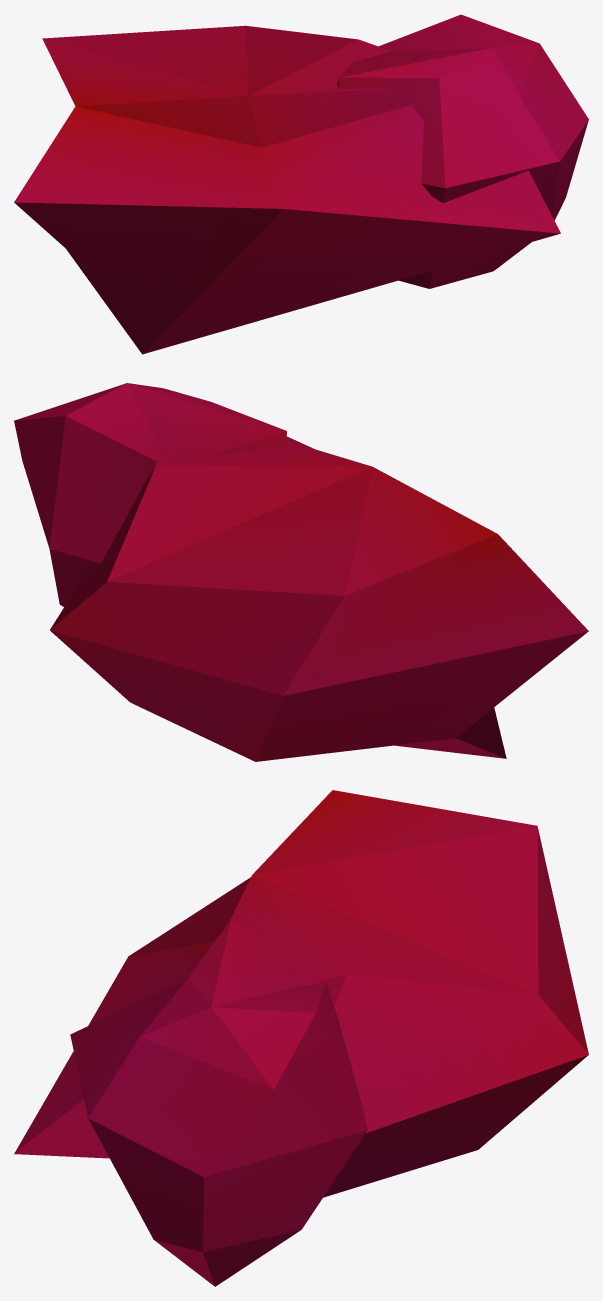
The model's file is Rock_Desert_Large_01.glb.
3 renders of one model, top to bottom at view 1: azimuth 30°, elevation 25°; view 2: azimuth 150°, elevation 25°; view 3: azimuth 270°, elevation 25°, orthographic. The views are drawn at different scales.
Parts seen in each view (by area): view 1: Rock_Desert_Large_01; view 2: Rock_Desert_Large_01; view 3: Rock_Desert_Large_01.
Boxes of the visible parts, bbox=[...] form: Rock_Desert_Large_01: bbox=[14, 14, 588, 354]; Rock_Desert_Large_01: bbox=[14, 383, 588, 761]; Rock_Desert_Large_01: bbox=[14, 790, 588, 1286].
Size of the model in its own units: 4.15 by 1.74 by 3.14.
